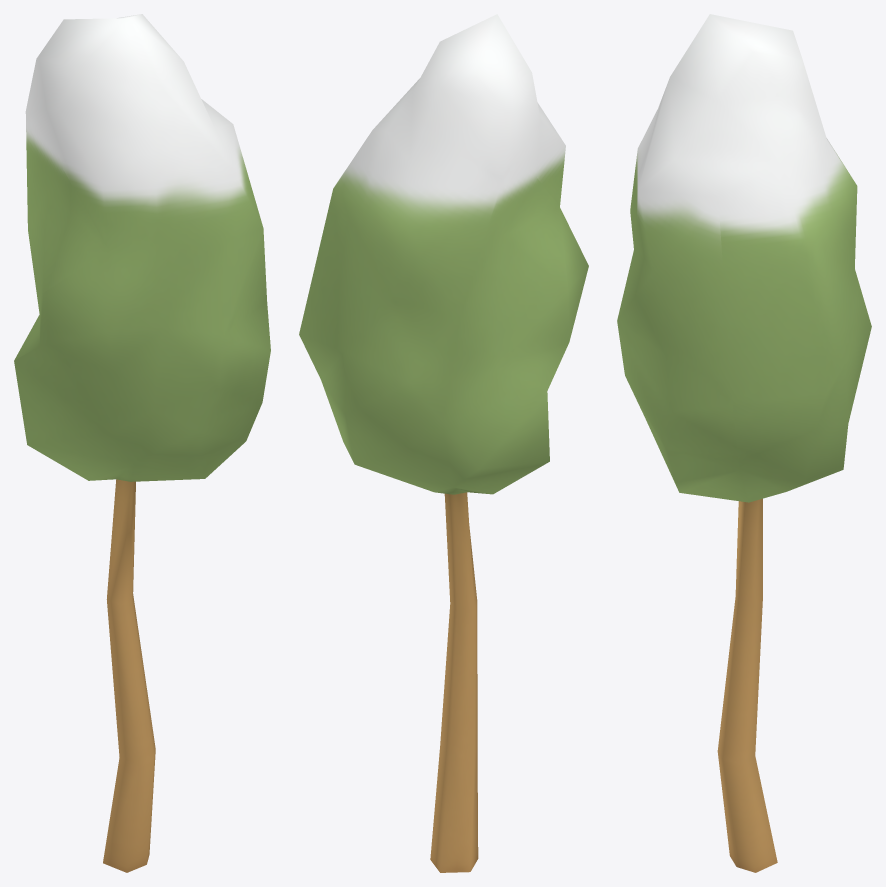
3 renders of one model, left to right at view 1: azimuth 30°, elevation 25°; view 2: azimuth 150°, elevation 25°; view 3: azimuth 270°, elevation 25°, orthographic. The views are drawn at different scales.
Parts seen in each view (by area): view 1: wPoros1; view 2: wPoros1; view 3: wPoros1.
Boxes of the visible parts, box(x1,y1,x2,y2) form: wPoros1: box(14, 14, 270, 872); wPoros1: box(299, 14, 588, 872); wPoros1: box(617, 14, 871, 872).
Bounding box in the file's own units: 2.84 × 10.04 × 2.77.
1 material, 1 textured.
